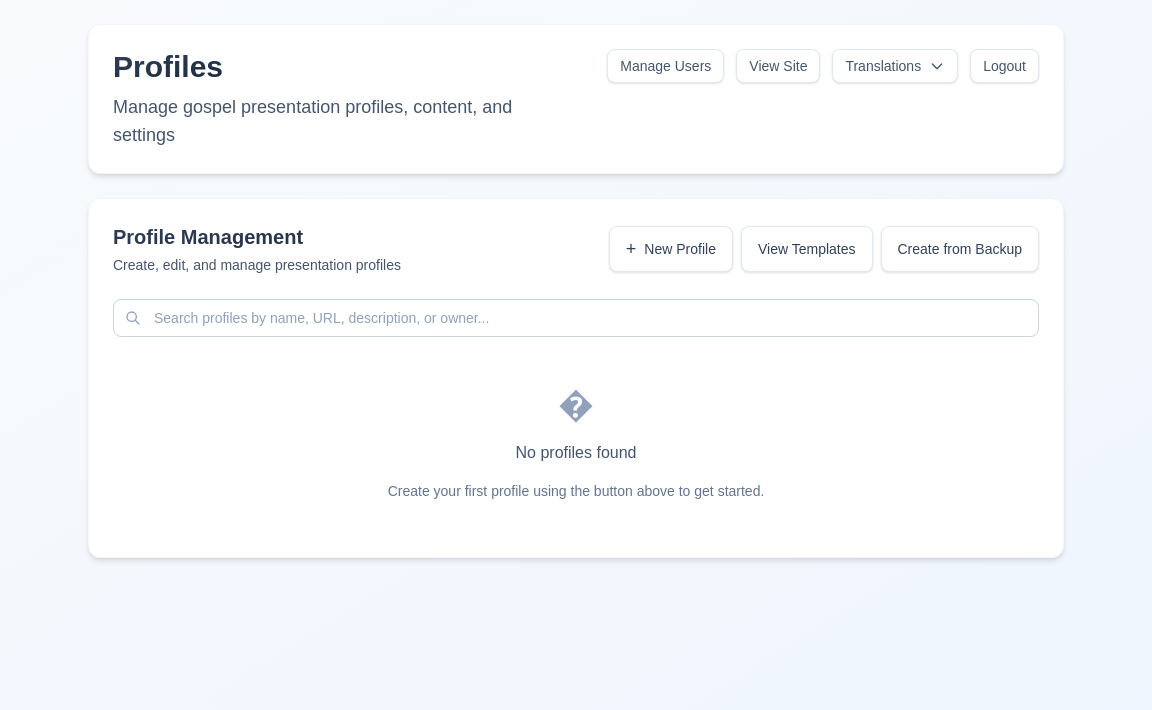
Test: AdminPageContent internals › shows duplicate-slug error when create profile API returns unique constraint error
The width and height of the screenshot is (1152, 710).
Check: the heading "Profile Management" is shown, box x1=113 y1=223 x2=593 y2=251
# Open create form
Step 1. Click the button "+ New Profile" → (671, 249), box x1=609 y1=226 x2=733 y2=272
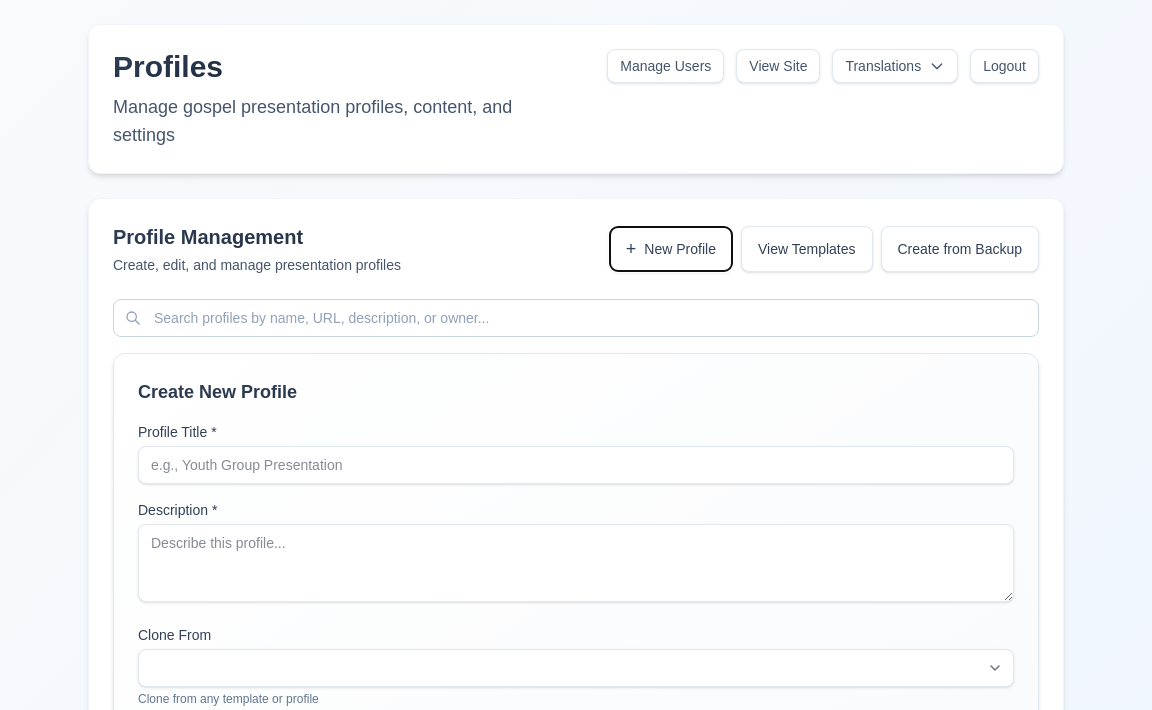
# Fill required fields
Step 2. Type "Test Title" into the field labelled "Profile Title *" → (576, 465), box x1=138 y1=446 x2=1014 y2=484
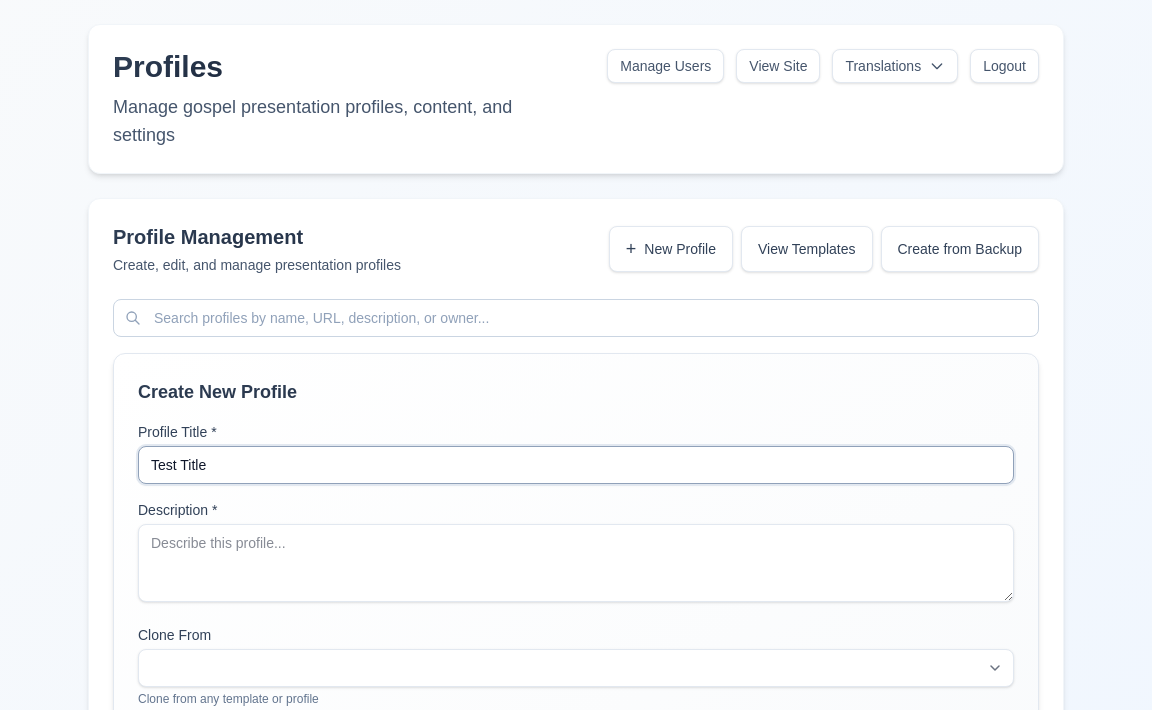
Step 3. Type "desc" into the text box labelled "Description *" → (576, 563), box x1=138 y1=524 x2=1014 y2=602
(page scrolled)
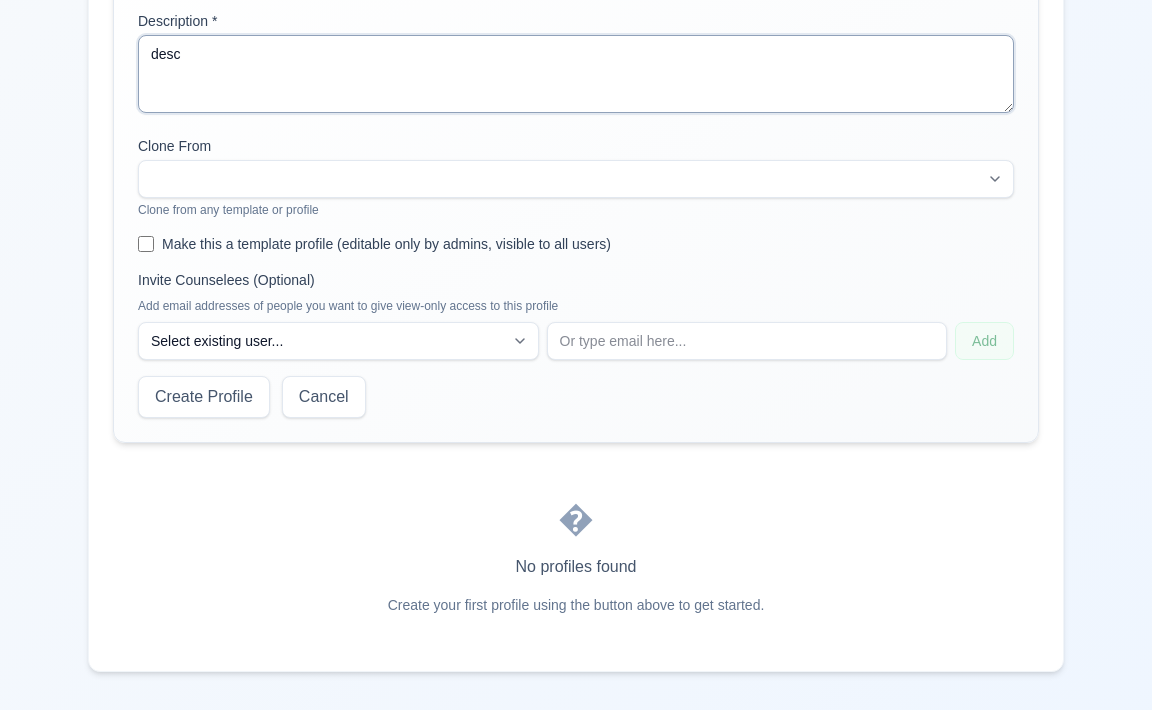
# Submit form
Step 4. Click the button "Create Profile" → (204, 397), box x1=138 y1=376 x2=270 y2=418
(page scrolled)
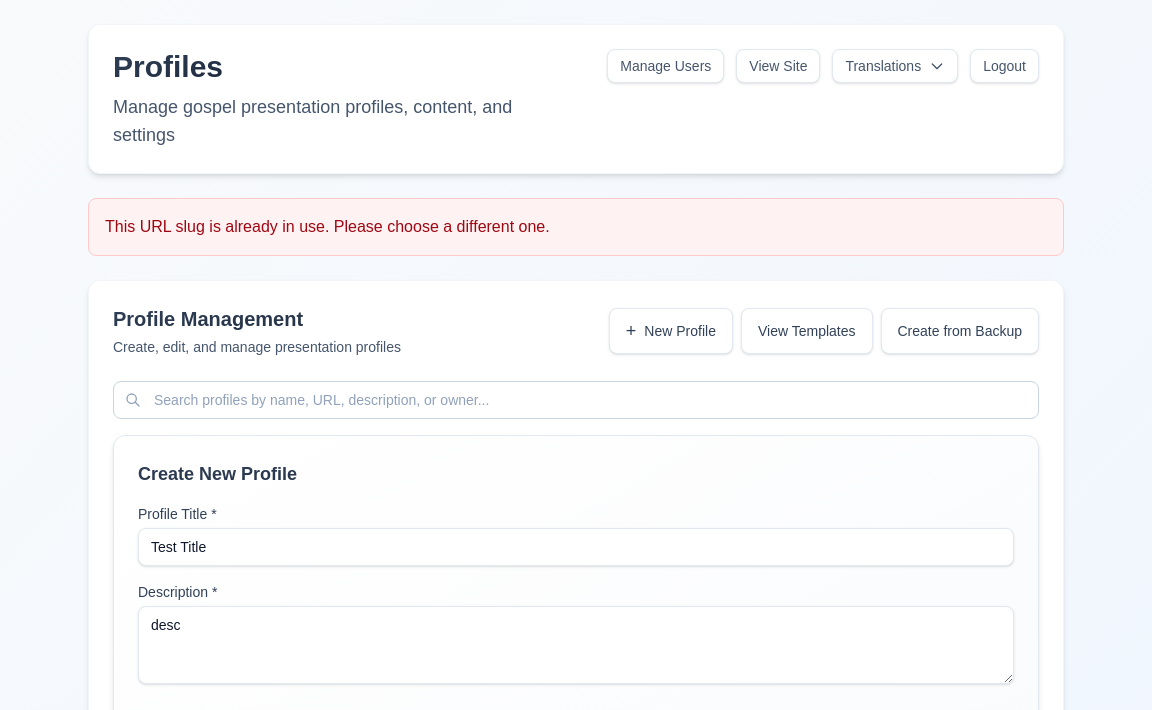
Check: the text "This URL slug is already in use" is shown, box x1=105 y1=218 x2=550 y2=235
